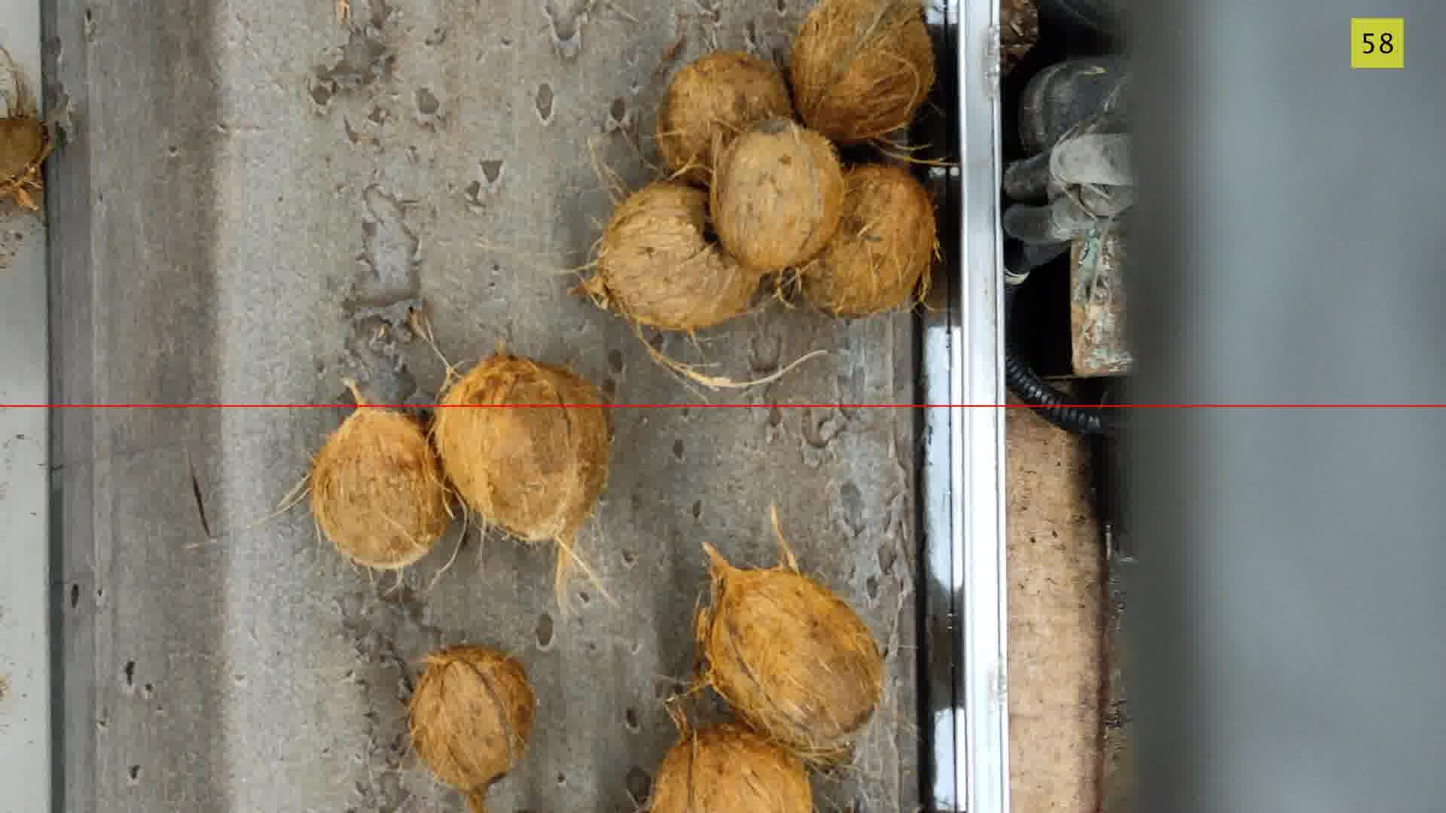Coconut: (696, 547, 883, 763), (432, 352, 609, 545), (581, 181, 761, 333), (309, 406, 450, 569), (789, 0, 935, 144), (798, 165, 936, 317), (410, 645, 535, 812), (709, 120, 844, 273), (657, 51, 792, 184), (648, 723, 812, 812), (0, 116, 50, 209)
